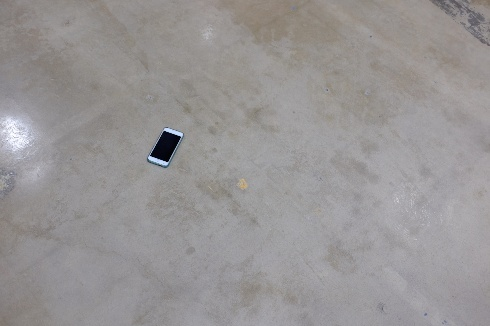phone: (142, 129, 191, 161)
